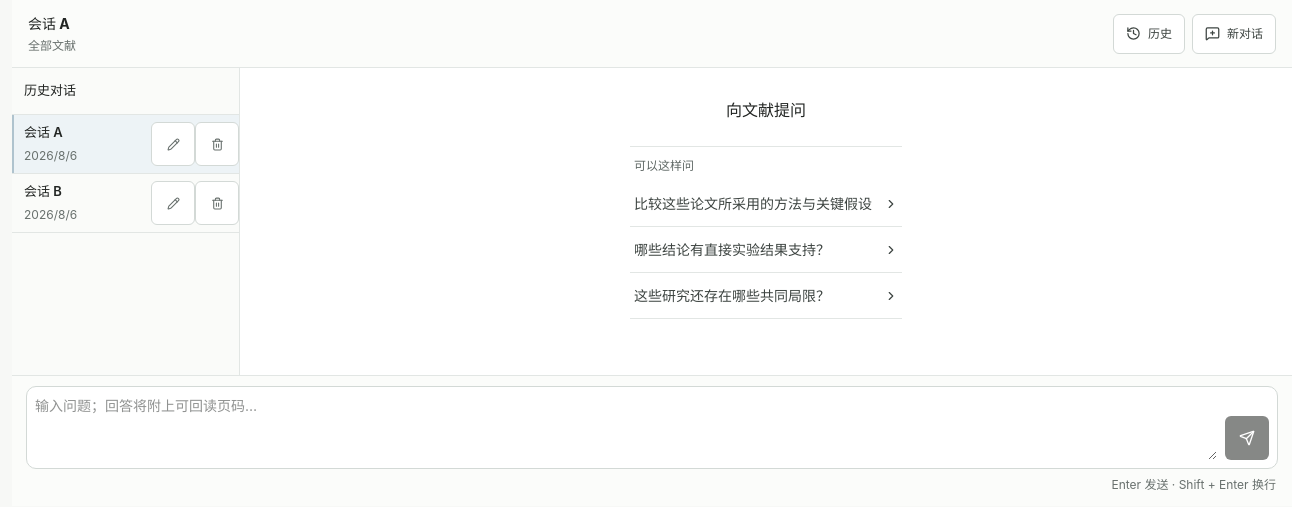
Test: ChatWorkspace › A 会话慢响应不能覆盖后选择的 B 会话
Click the button "会话 B 2026/8/6".
click(82, 203)  # box [12,174,151,232]
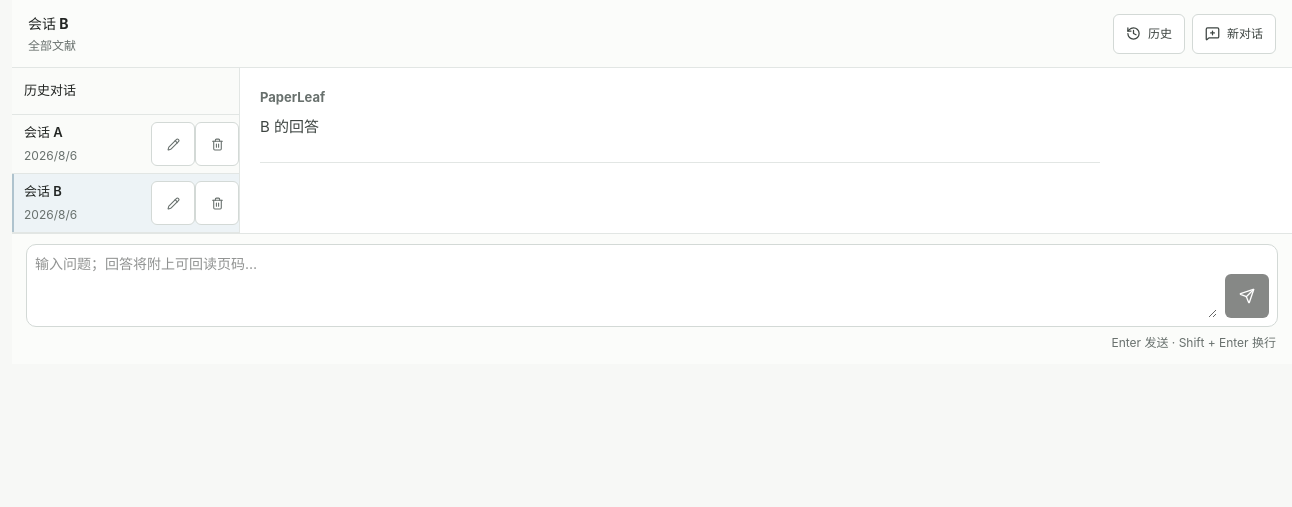
Now the text "B 的回答" is shown, box [260,117,319,136]
